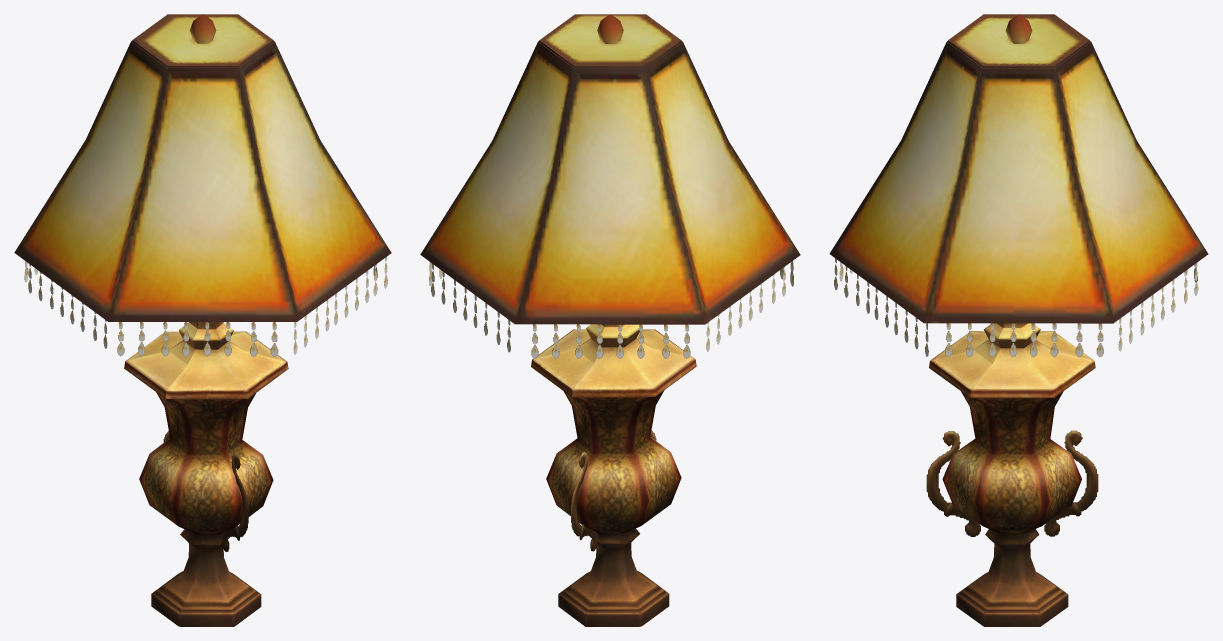
The model's file is furni_0201201.FBX.
3 renders of one model, left to right at view 1: azimuth 30°, elevation 25°; view 2: azimuth 150°, elevation 25°; view 3: azimuth 270°, elevation 25°, orthographic.
Visible parts, largest first — view 1: furni_0201201; view 2: furni_0201201; view 3: furni_0201201.
Part boxes in pixels (box(x1,y1,x2,y2)): furni_0201201: box(14, 14, 391, 626); furni_0201201: box(420, 14, 800, 626); furni_0201201: box(829, 14, 1208, 626).
Size of the model in its own units: 51.88 by 103 by 59.47.
Materials: 1 (1 with a texture image).
